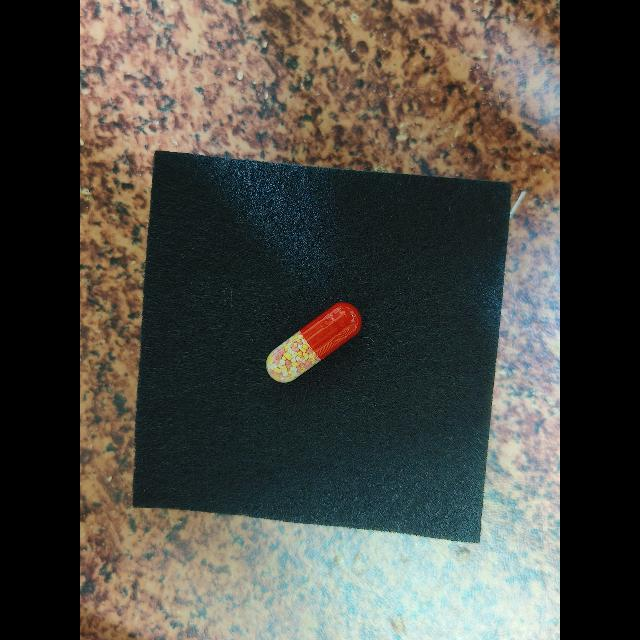Intact Capsule: (266, 302, 362, 383)
